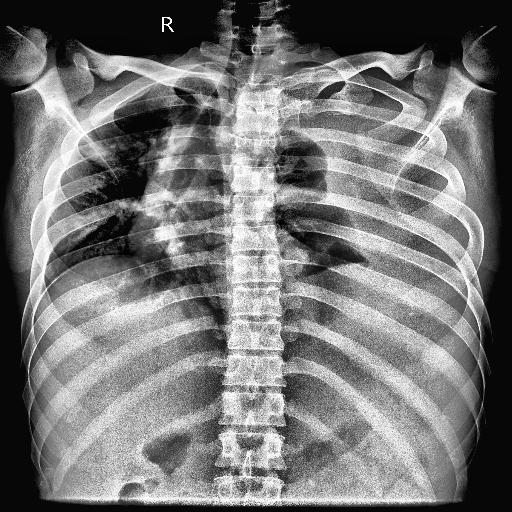10- Pleural effusion: (258, 60, 481, 344), (258, 73, 466, 309), (270, 74, 466, 293)
6- Infiltration: (76, 138, 130, 182)
7- Lung Opacity: (270, 132, 358, 267)
